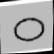no answer: (11, 14, 47, 45)
